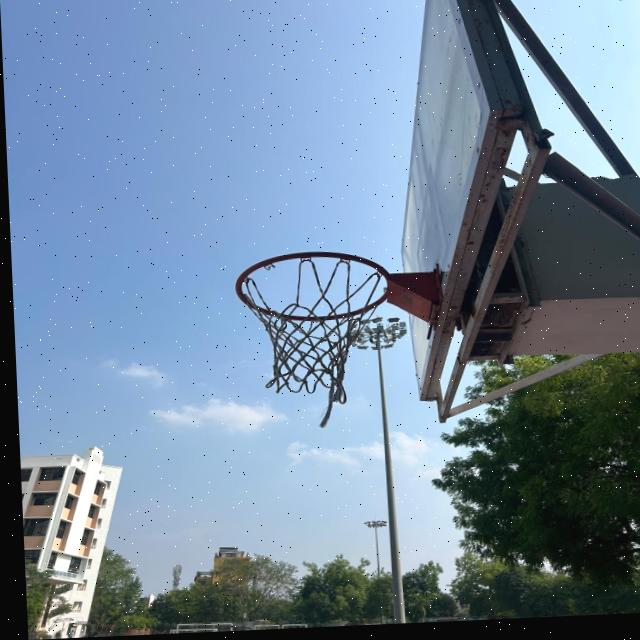hoop: (219, 229, 438, 426)
